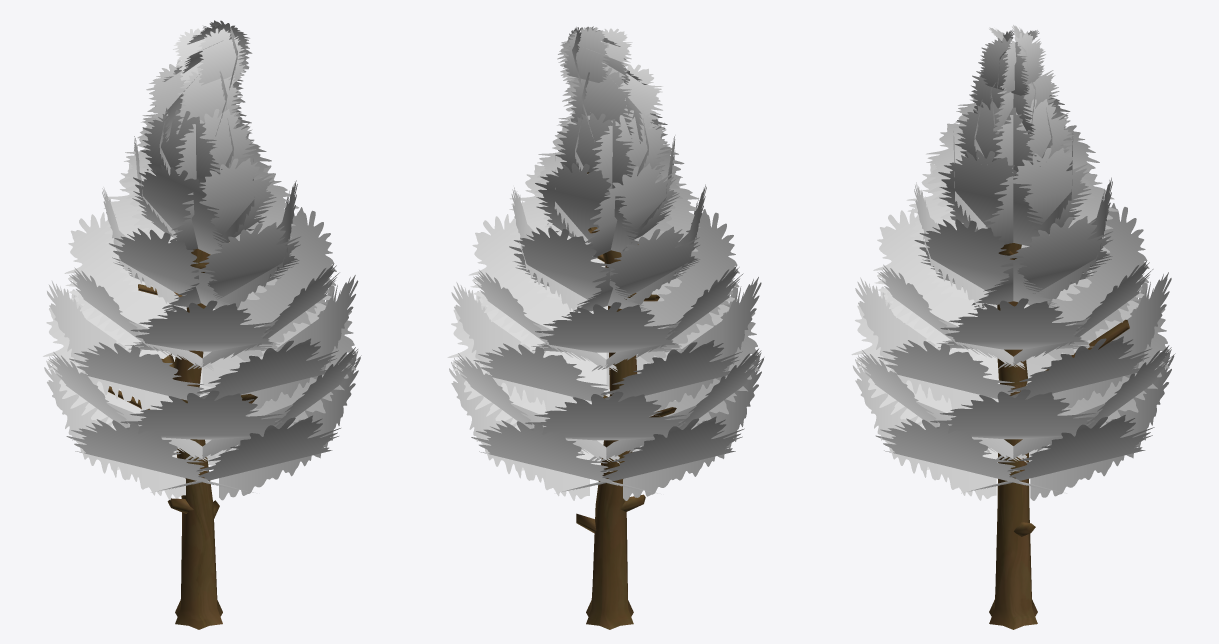
File: Tarmarack_Tree_002.fbx
The picture shows the model from 3 angles, left to right: view 1: azimuth 30°, elevation 25°; view 2: azimuth 150°, elevation 25°; view 3: azimuth 270°, elevation 25°; orthographic projection. The views are drawn at different scales.
Visible parts, largest first — view 1: Tamarack_Leaf_002_LOD0, Tamarack_Trunk_002_LOD0; view 2: Tamarack_Leaf_002_LOD0, Tamarack_Trunk_002_LOD0; view 3: Tamarack_Leaf_002_LOD0, Tamarack_Trunk_002_LOD0.
Boxes of the visible parts, left/top/right/bottom form: Tamarack_Leaf_002_LOD0: left=43, top=20, right=361, bottom=500; Tamarack_Trunk_002_LOD0: left=108, top=242, right=257, bottom=629; Tamarack_Leaf_002_LOD0: left=447, top=26, right=764, bottom=500; Tamarack_Trunk_002_LOD0: left=576, top=172, right=676, bottom=629; Tamarack_Leaf_002_LOD0: left=851, top=25, right=1175, bottom=500; Tamarack_Trunk_002_LOD0: left=989, top=243, right=1129, bottom=629.
Size of what is drawn, in the model's own units: 761 by 1320 by 761.
